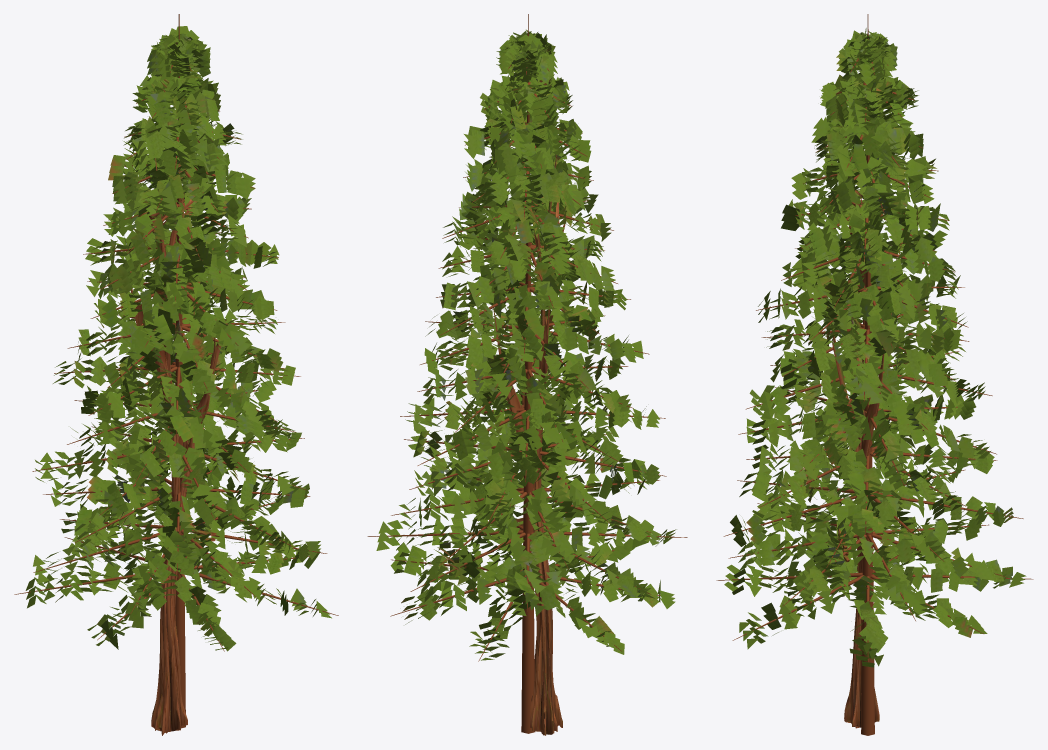
Rendered from canyon-pine.glb.
3 renders of one model, left to right at view 1: azimuth 30°, elevation 25°; view 2: azimuth 150°, elevation 25°; view 3: azimuth 270°, elevation 25°, orthographic.
Parts seen in each view (by area): view 1: Canyon pine — complete library geometry; view 2: Canyon pine — complete library geometry; view 3: Canyon pine — complete library geometry.
Part boxes in pixels (x1,y1,x2,y2): Canyon pine — complete library geometry: (14,14,338,735); Canyon pine — complete library geometry: (367,14,687,735); Canyon pine — complete library geometry: (716,14,1033,735).
Bounding box in the file's own units: 0.5582 × 1.4 × 0.5602.
1 material, 1 textured.
